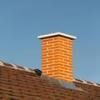chimneys: (37, 31, 77, 82)
